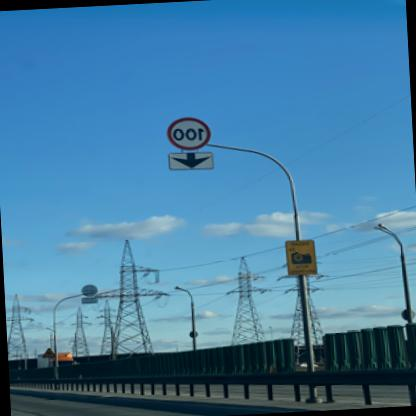speedlimit: (167, 115, 213, 150)
